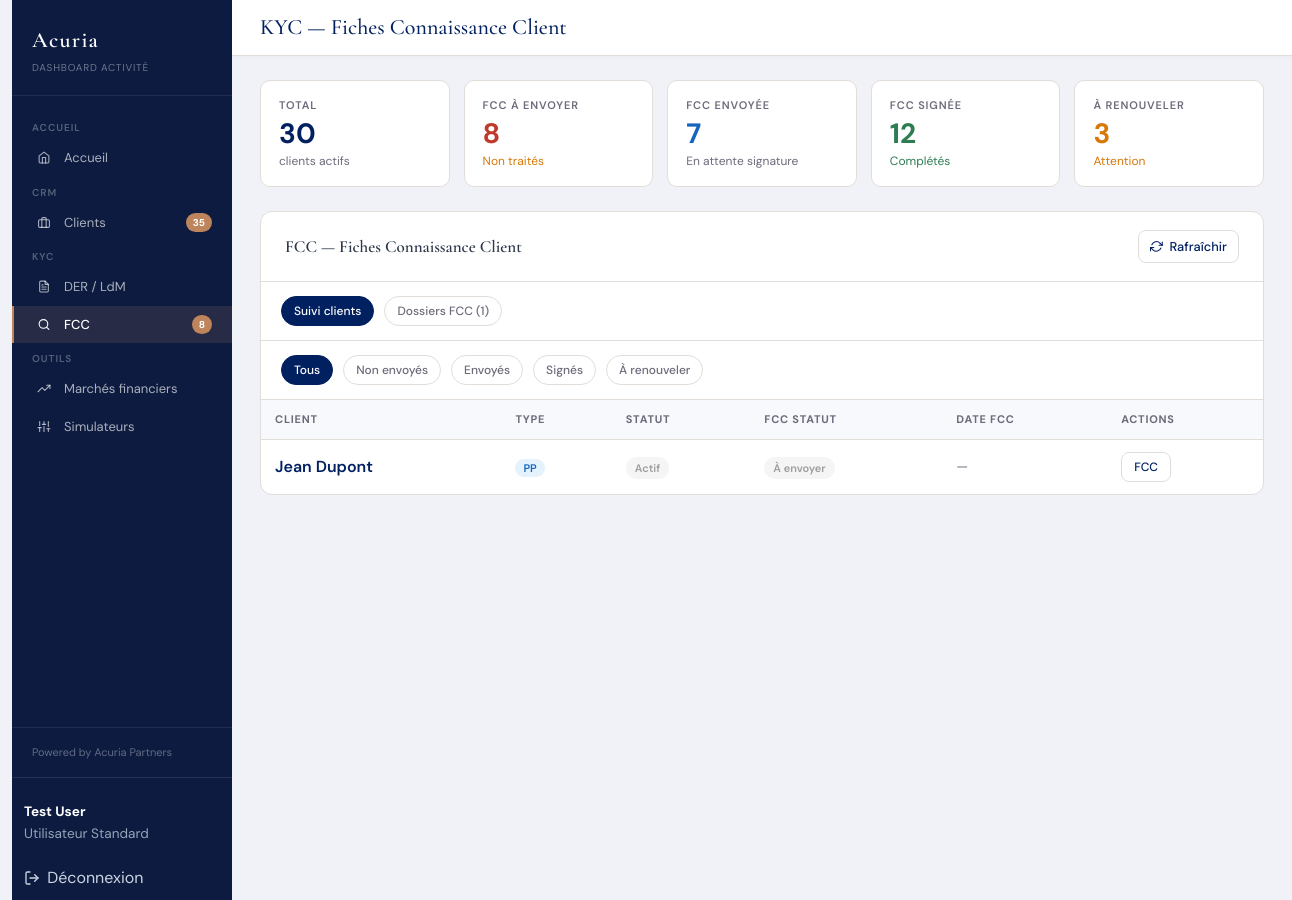
Test: KycFccPage integration › can switch to Dossiers FCC tab and see submissions
Expected: the element with class "dashboard-main" is shown, [232,0,1291,495]
The Dossiers FCC tab button
Step 1. Click the button "Dossiers FCC (1)" → (443, 312), box [384,296,502,326]
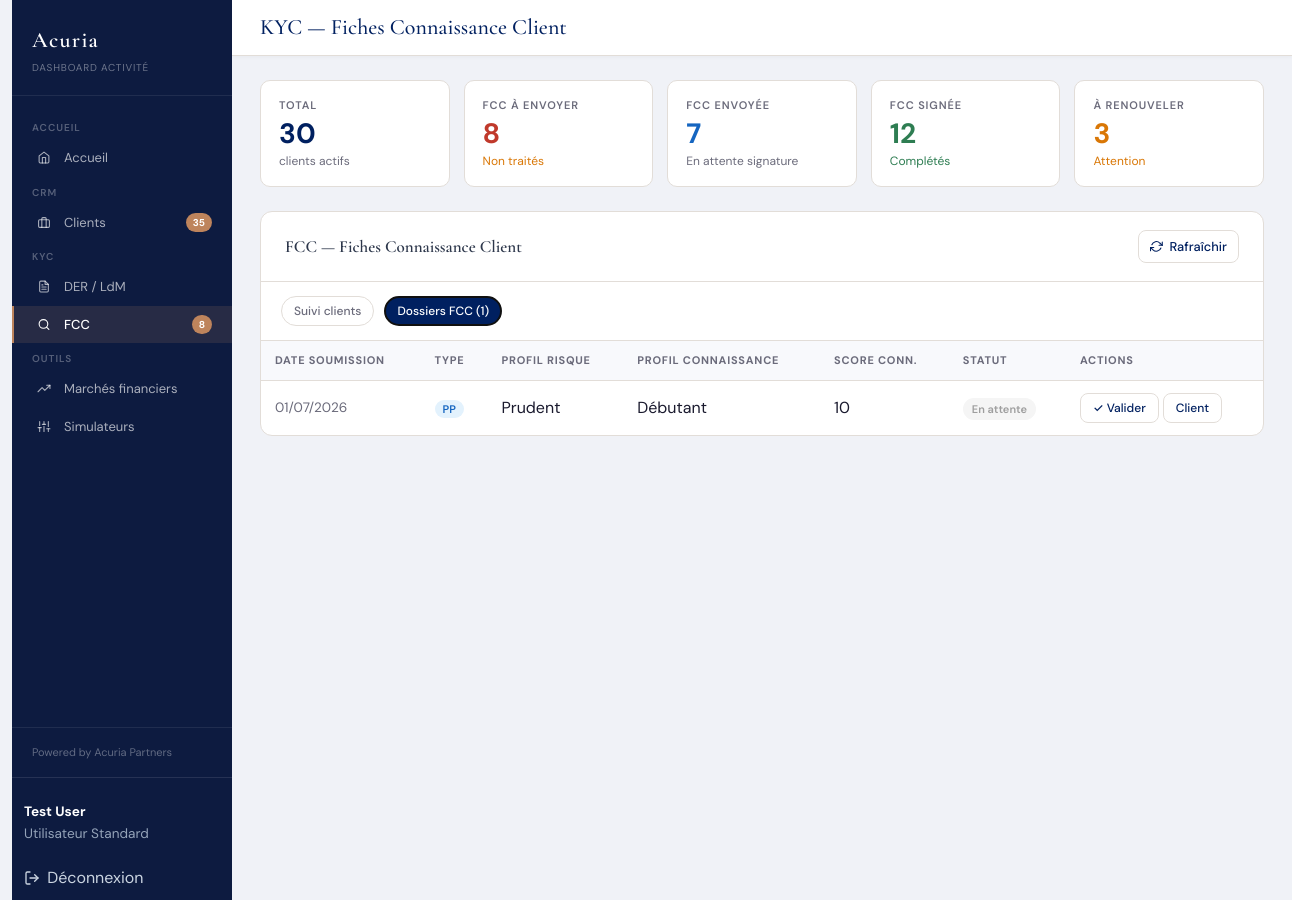
Result: the text "Prudent" is shown at [488,380,623,435]
Result: the text "En attente" is shown at [963,398,1036,420]
